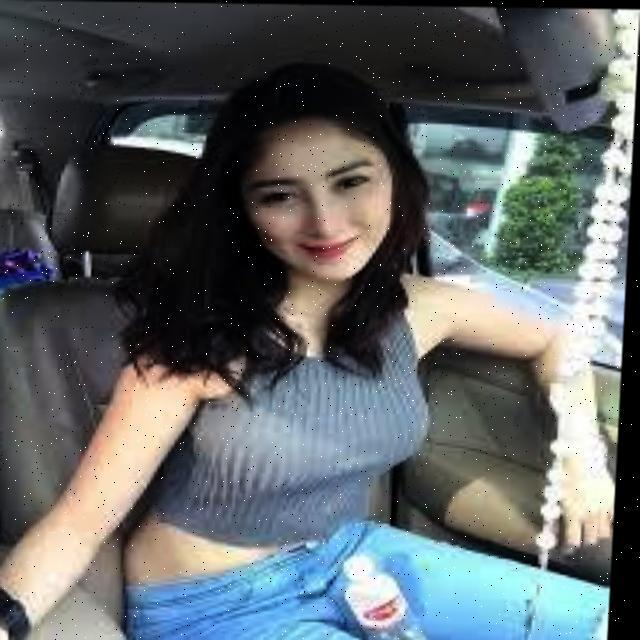noSeatbelt: (139, 268, 462, 558)
